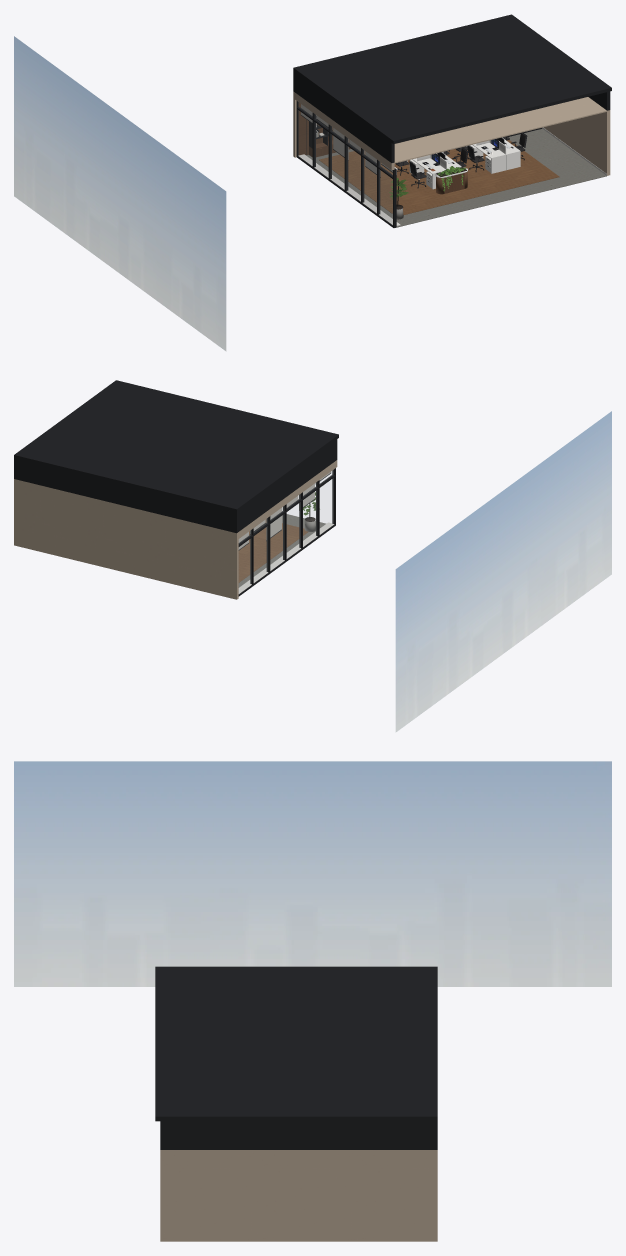
The model's file is office.glb.
3 views of the same model, one above another, from view 1: azimuth 30°, elevation 25°; view 2: azimuth 150°, elevation 25°; view 3: azimuth 270°, elevation 25° (orthographic). The views are drawn at different scales.
Parts seen in each view (by area): view 1: city, slab, room, glass, windows, desks_b, desks_a, feature_wall, planter; view 2: city, slab, room, glass, windows; view 3: city, slab, room.
Boxes of the visible parts, box(x1,y1,x2,y2) form: city: box(14, 36, 226, 351); slab: box(293, 14, 611, 162); room: box(293, 91, 610, 227); glass: box(298, 103, 392, 223); windows: box(296, 101, 400, 227); desks_b: box(454, 132, 527, 173); desks_a: box(395, 147, 468, 189); feature_wall: box(298, 102, 350, 157); planter: box(435, 166, 467, 194); city: box(395, 411, 611, 732); slab: box(14, 380, 338, 533); room: box(14, 460, 337, 599); glass: box(239, 470, 333, 592); windows: box(238, 468, 335, 596); city: box(14, 761, 611, 986); slab: box(155, 966, 437, 1149); room: box(160, 1150, 437, 1241).
Bounding box in the file's own units: 21.35 × 7.5 × 18.
43 materials, 11 textured.
